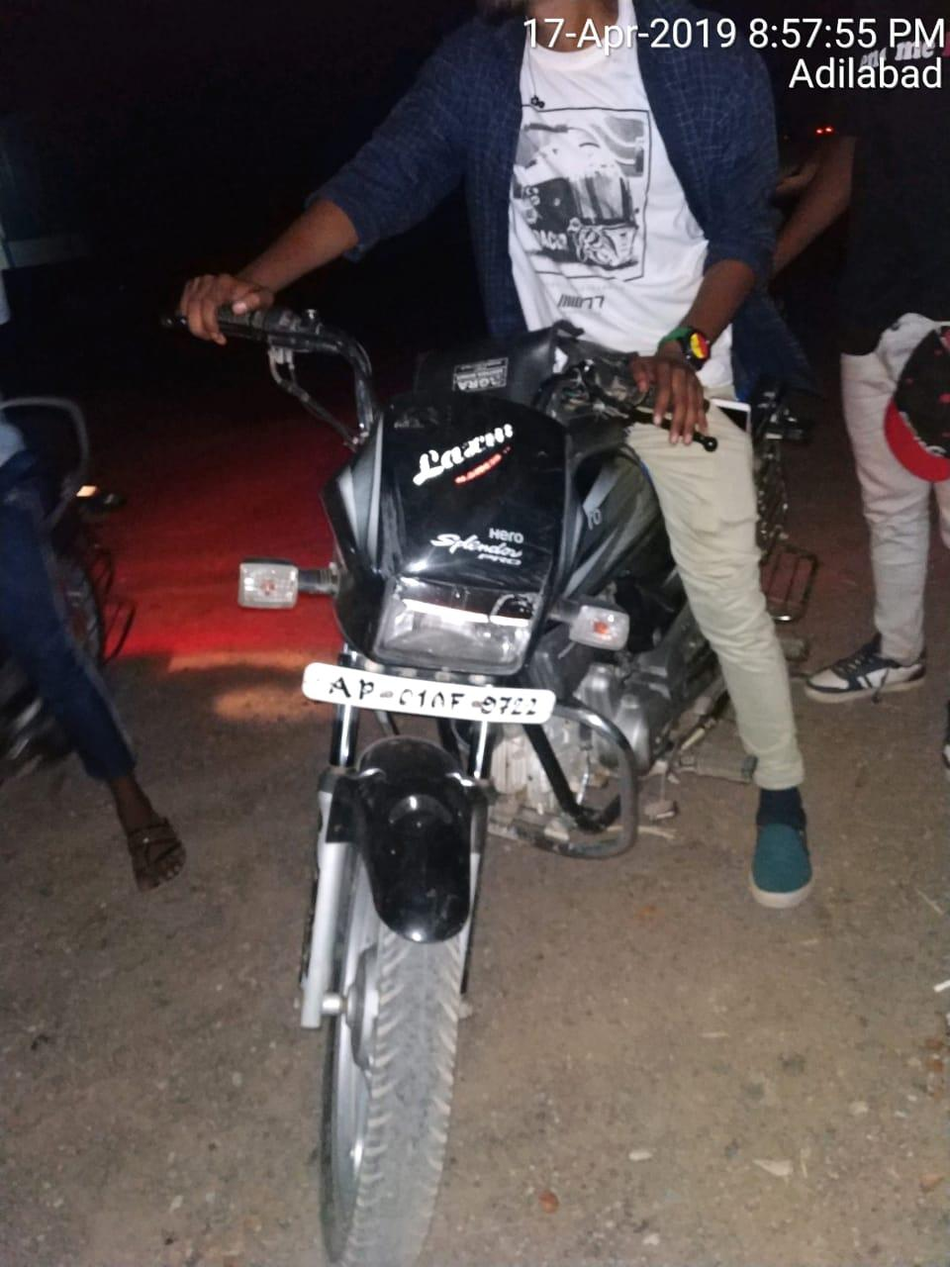plate: (298, 634, 565, 742)
